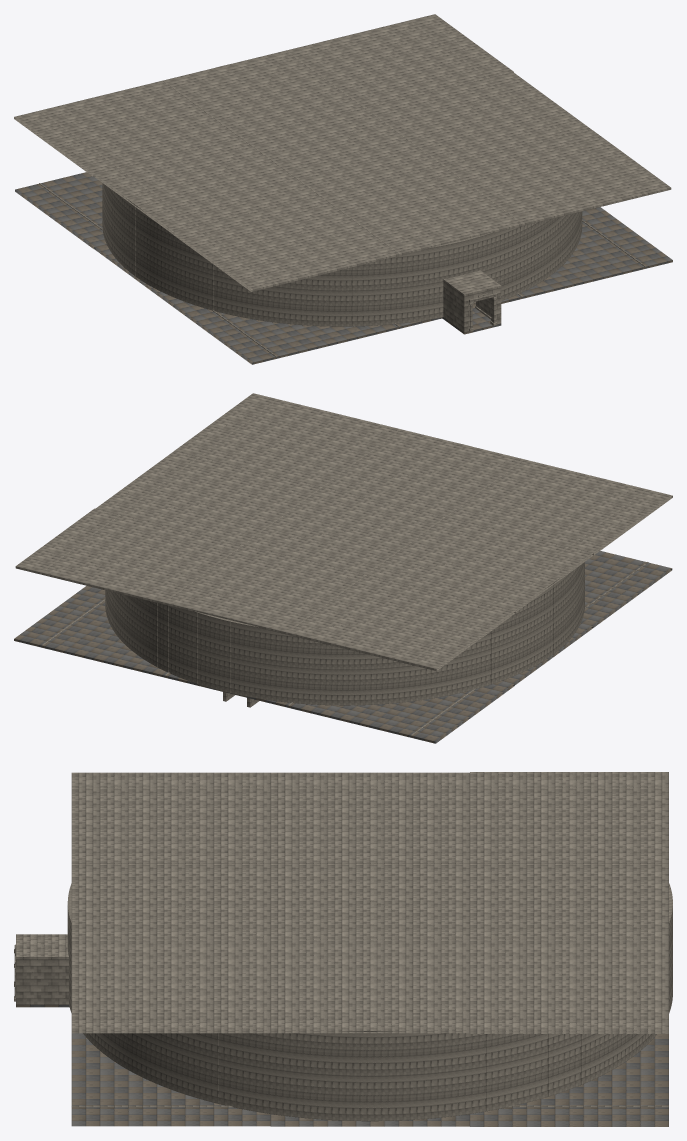
The model's file is MOD_Tron.fbx.
The picture shows the model from 3 angles, top to bottom: view 1: azimuth 30°, elevation 25°; view 2: azimuth 150°, elevation 25°; view 3: azimuth 270°, elevation 25°; orthographic projection. The views are drawn at different scales.
Visible parts, largest first — view 1: Roof, Portal_Side_L.001, Floor.004, Portal_Side_L.002, Wall, Ceiling; view 2: Roof, Portal_Side_L.001, Floor.004, Portal_Side_L.002; view 3: Roof, Portal_Side_L.001, Floor.004, Portal_Side_L.002, Wall.001, Ceiling.
Boxes of the visible parts, left/top/right/bottom form: Roof: left=14, top=14, right=671, bottom=291; Portal_Side_L.001: left=102, top=191, right=582, bottom=326; Floor.004: left=15, top=172, right=672, bottom=364; Portal_Side_L.002: left=102, top=65, right=575, bottom=290; Wall: left=443, top=281, right=467, bottom=332; Ceiling: left=443, top=270, right=501, bottom=296; Roof: left=15, top=393, right=672, bottom=670; Portal_Side_L.001: left=105, top=573, right=584, bottom=705; Floor.004: left=14, top=551, right=672, bottom=743; Portal_Side_L.002: left=112, top=444, right=584, bottom=669; Roof: left=71, top=772, right=668, bottom=1033; Portal_Side_L.001: left=69, top=952, right=672, bottom=1121; Floor.004: left=71, top=1033, right=668, bottom=1126; Portal_Side_L.002: left=67, top=883, right=672, bottom=1075; Wall.001: left=16, top=959, right=68, bottom=1004; Ceiling: left=16, top=934, right=68, bottom=959.
Bounding box in the file's own units: 4329 × 920 × 4634.
